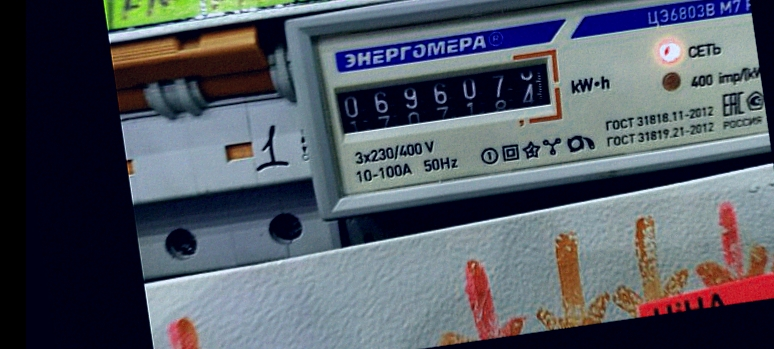0: (342, 92, 362, 118), (460, 74, 479, 100)
4: (519, 80, 538, 106)
6: (371, 88, 392, 114), (431, 79, 451, 105)
7: (490, 71, 509, 99)
9: (401, 84, 420, 110)
screen: (320, 41, 570, 149)
